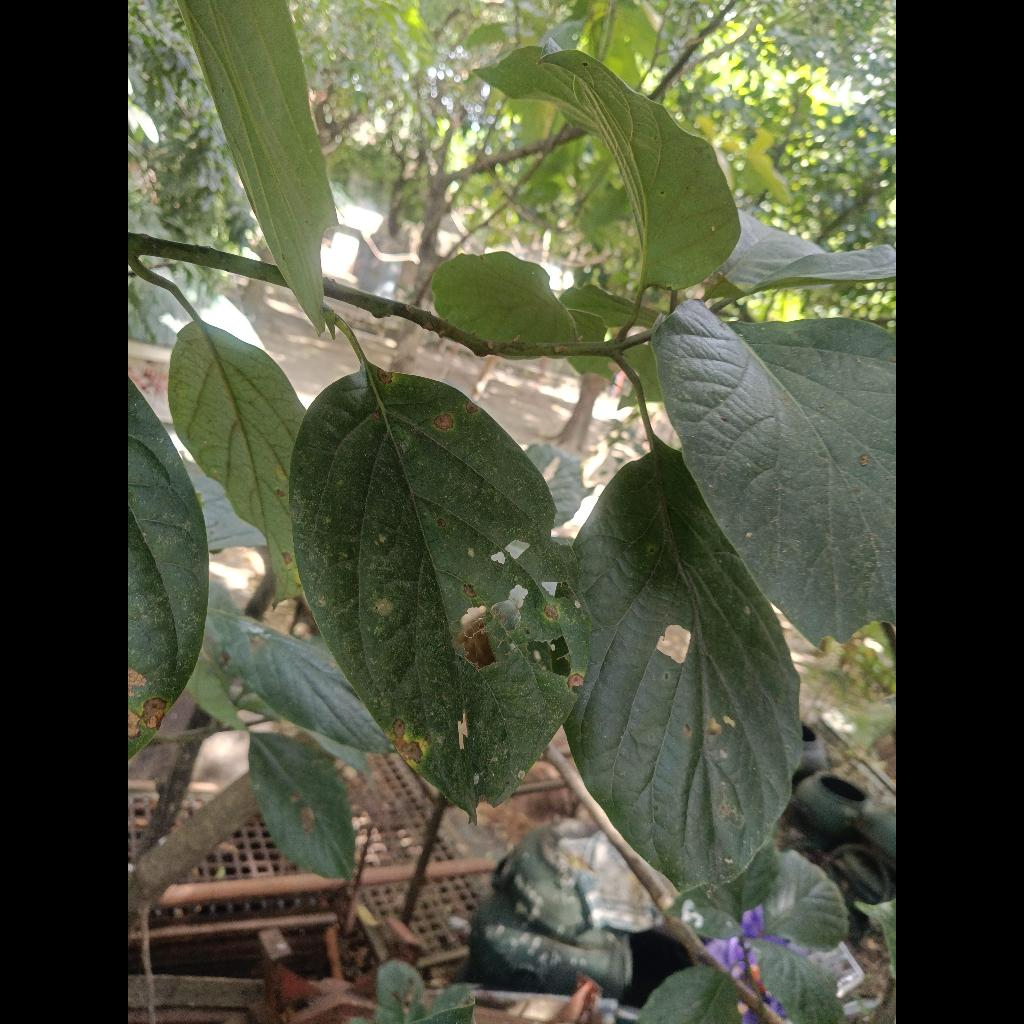plaga: (290, 363, 590, 817), (565, 440, 801, 890)
